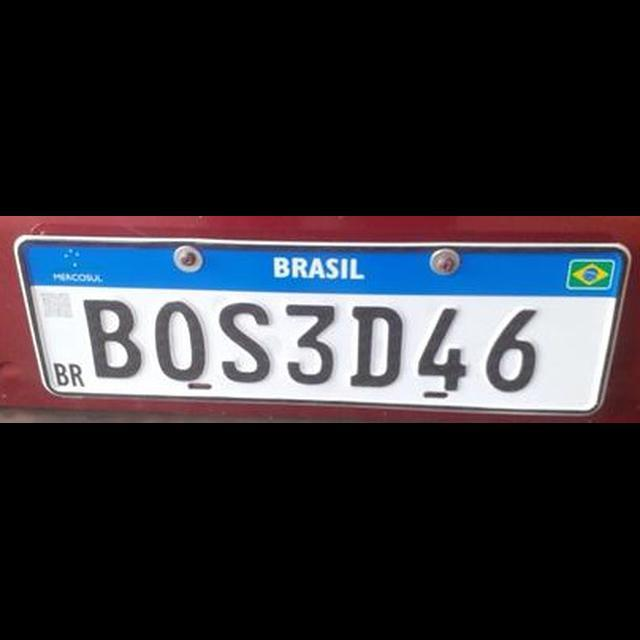Caractere: (80, 294, 146, 382), (152, 296, 212, 384), (414, 304, 470, 396), (217, 296, 275, 384), (483, 306, 541, 394), (348, 304, 406, 388), (282, 299, 338, 385)
Placa: (14, 232, 620, 418)
